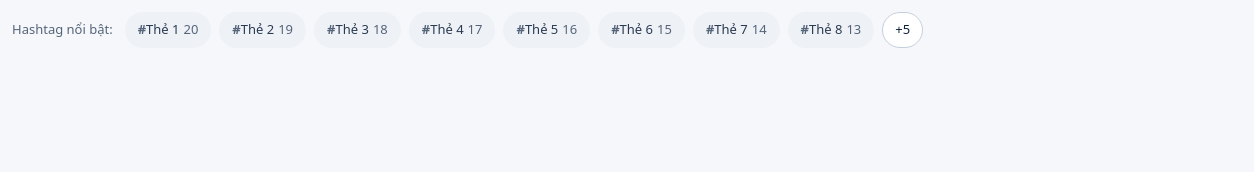
Test: popular hashtags row › should show every hashtag after "+5" is pressed
This screenshot has width=1254, height=172.
Step 1. Click the button named "Xem thêm 5 hashtag" → (903, 30), box [882, 12, 923, 48]
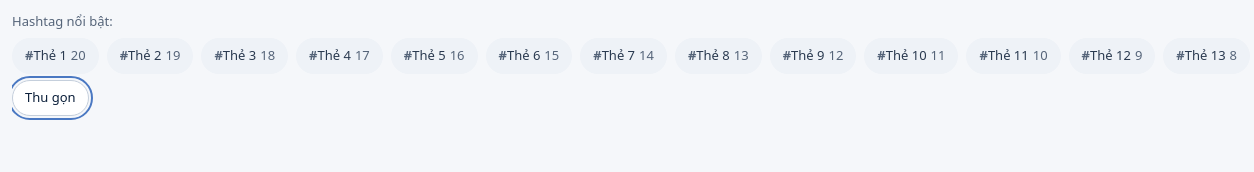
Expected: the number of links is 13
Expected: the button with aria-label "Thu gọn hashtag" is expanded, [12, 80, 89, 116]
